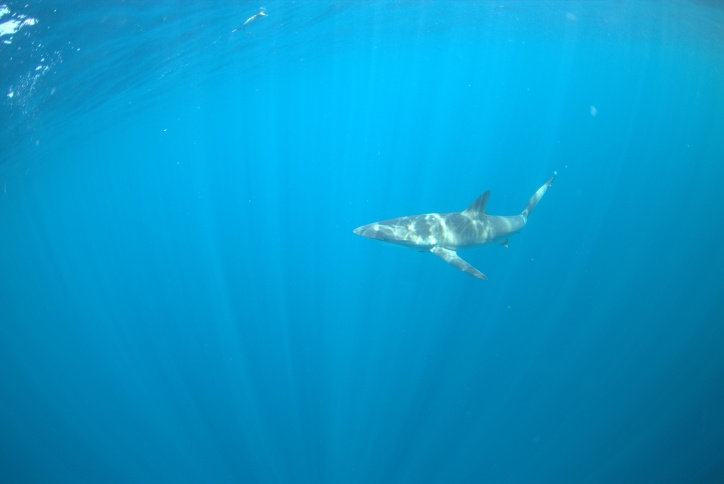Sedoso: (344, 167, 572, 286)
